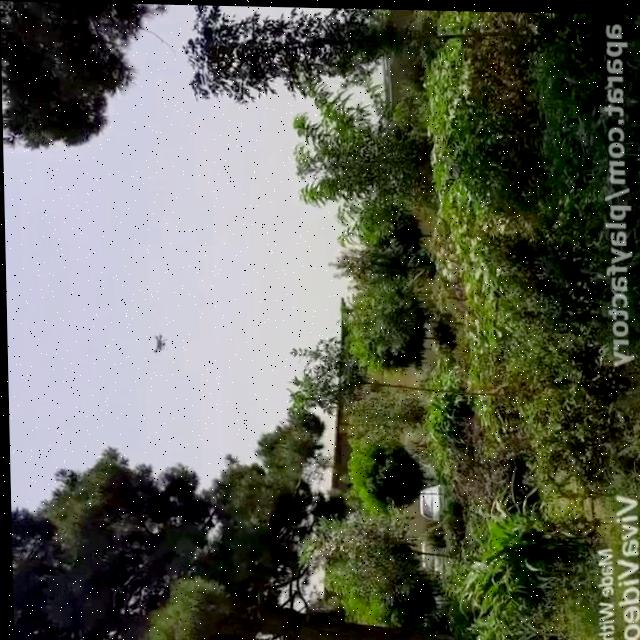drone: (143, 326, 169, 359)
